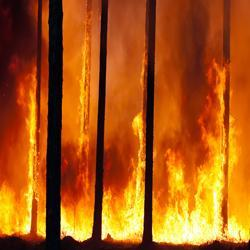fire: (167, 166, 222, 241), (24, 68, 41, 233), (203, 67, 226, 161), (106, 182, 141, 237), (62, 188, 94, 240), (80, 37, 88, 129)
